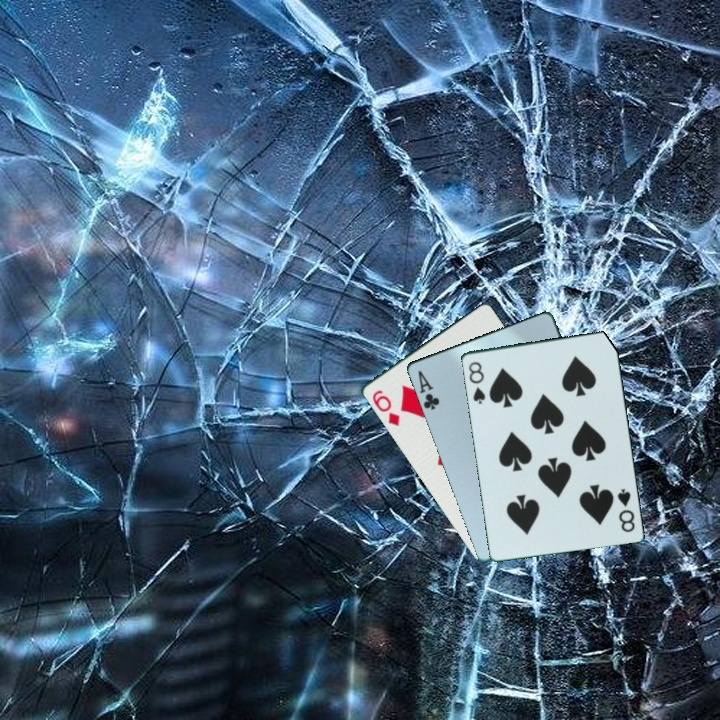6d: (368, 386, 402, 429)
8s: (613, 485, 638, 535), (465, 358, 488, 407)
Ac: (414, 367, 442, 413)
